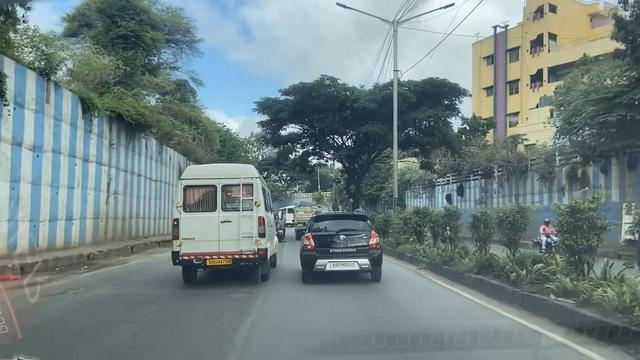HMV: (174, 169, 274, 271)
LMV: (303, 217, 389, 278)
